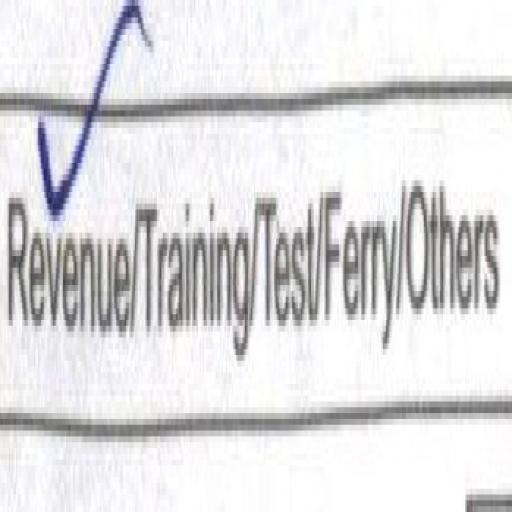check: (4, 0, 135, 429)
